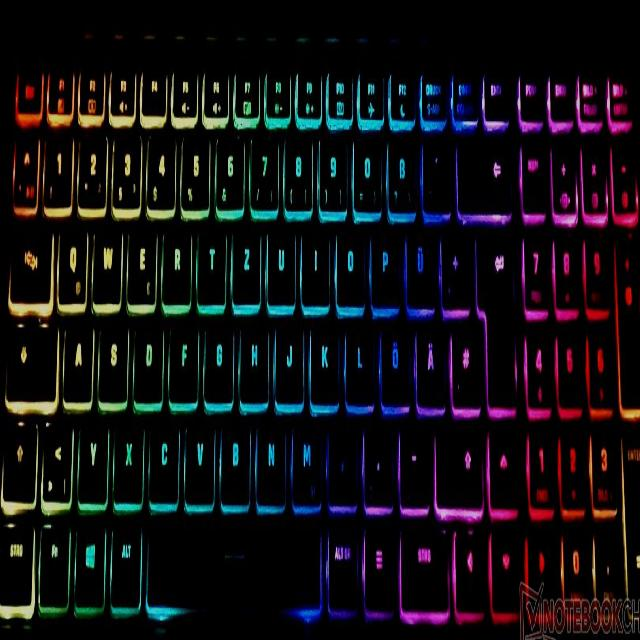0: (351, 130, 382, 211)
1: (40, 124, 72, 206)
2: (75, 126, 106, 206)
3: (109, 128, 141, 207)
4: (144, 124, 175, 208)
5: (179, 124, 209, 210)
6: (213, 128, 244, 210)
7: (248, 129, 278, 211)
8: (281, 129, 312, 212)
9: (316, 131, 347, 210)
a: (61, 316, 92, 401)
accent: (420, 130, 449, 210)
ae: (413, 318, 444, 404)
alt-left: (108, 515, 141, 606)
altgr-right: (325, 516, 357, 608)
b: (218, 413, 249, 502)
c: (146, 413, 178, 502)
caret: (10, 126, 37, 207)
comma: (325, 414, 356, 503)
d: (131, 314, 162, 402)
del: (455, 132, 510, 211)
e: (124, 217, 156, 303)
enter: (472, 221, 514, 407)
f: (166, 315, 197, 401)
g: (201, 316, 232, 402)
h: (237, 316, 268, 401)
hash: (447, 315, 480, 405)
i: (298, 220, 329, 302)
j: (272, 316, 302, 402)
k: (307, 313, 338, 402)
keyboard: (0, 11, 640, 640)
l: (342, 314, 373, 403)
less: (39, 412, 72, 503)
m: (289, 412, 321, 503)
minus: (396, 414, 428, 503)
n: (253, 413, 285, 503)
o: (333, 222, 364, 304)
oe: (378, 315, 409, 402)
p: (368, 219, 399, 303)
plus: (438, 220, 470, 307)
point: (361, 416, 392, 503)
q: (54, 216, 87, 304)
r: (160, 217, 191, 303)
s: (95, 316, 127, 401)
shift-left: (0, 414, 36, 500)
shift-lock: (3, 318, 57, 399)
shift-right: (432, 414, 482, 507)
space: (143, 511, 321, 608)
ss: (385, 130, 415, 211)
strg-left: (0, 514, 33, 607)
strg-right: (397, 519, 449, 611)
t: (195, 218, 225, 302)
tab: (6, 211, 52, 301)
u: (264, 219, 294, 303)
ue: (403, 221, 434, 305)
v: (181, 415, 214, 502)
w: (90, 217, 121, 302)
x: (111, 412, 143, 500)
y: (75, 412, 107, 500)
z: (229, 218, 260, 302)
